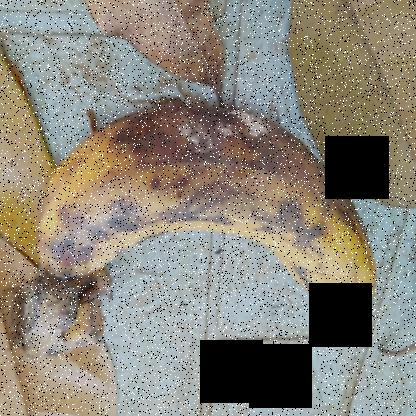rotten: (30, 67, 393, 348)
